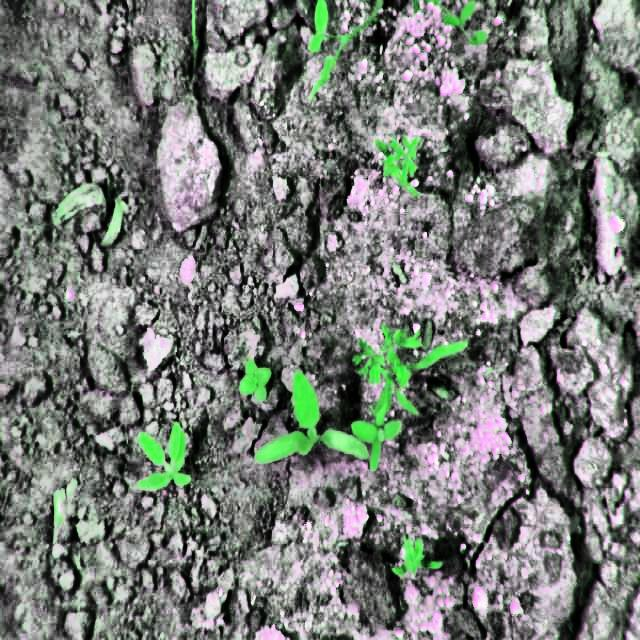Weeds: (254, 368, 367, 466), (134, 421, 189, 491), (352, 408, 400, 473), (240, 361, 269, 401)
undefined: (353, 322, 467, 418), (372, 124, 422, 194), (390, 528, 447, 583)
